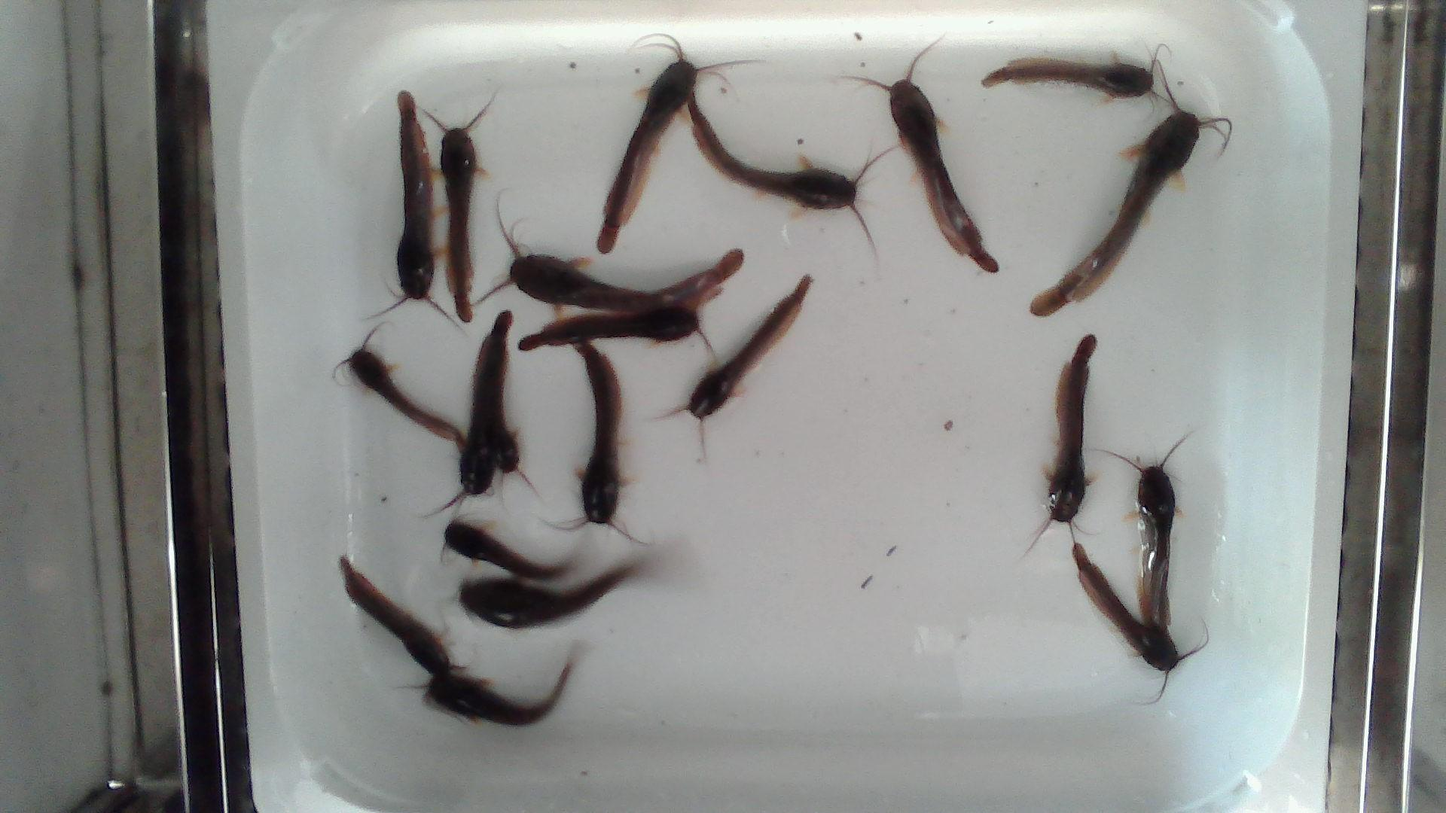lele: (1031, 58, 1231, 315), (846, 41, 998, 273), (596, 34, 748, 253), (687, 91, 890, 251), (478, 201, 744, 311), (665, 277, 810, 461), (372, 91, 462, 331), (1072, 543, 1207, 703), (553, 342, 645, 544), (427, 310, 512, 517), (1105, 436, 1189, 635), (1025, 334, 1097, 555), (340, 556, 470, 678), (341, 333, 464, 451), (518, 289, 721, 359), (429, 102, 490, 321), (425, 648, 575, 727), (981, 43, 1168, 100), (460, 566, 633, 627), (493, 344, 537, 508), (446, 520, 566, 579)
